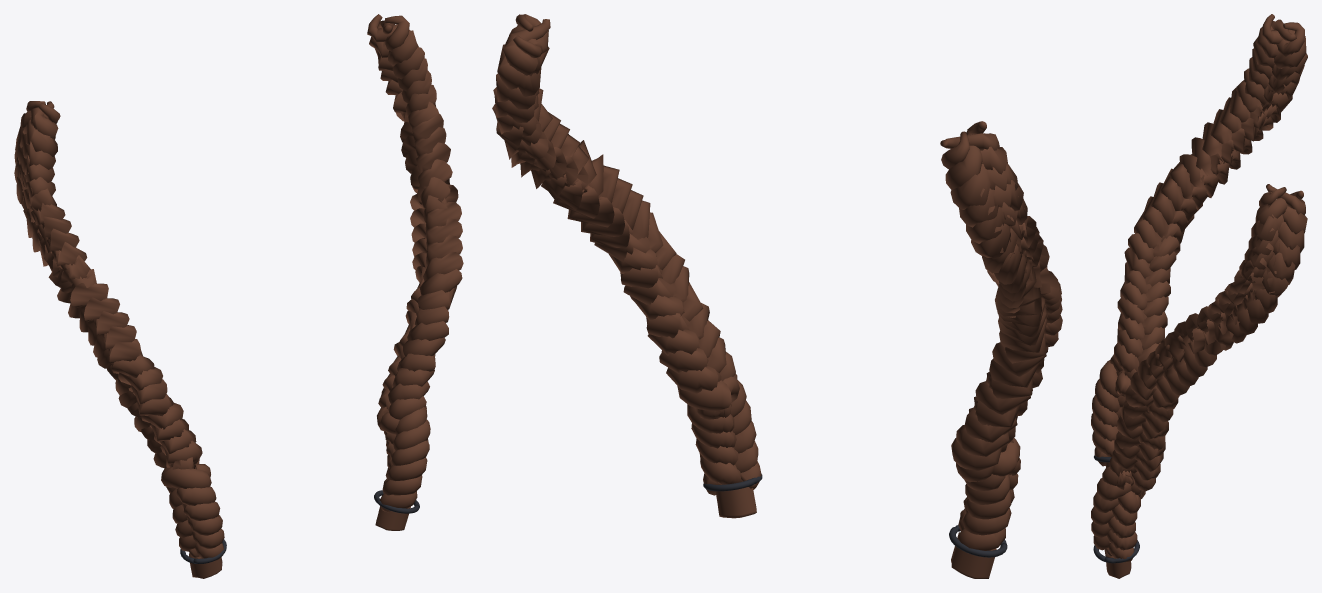
The model's file is Feminine-twin-braids-sweatshirt-pashmina-lengths251.glb.
3 views of the same model, side by side, from view 1: azimuth 30°, elevation 25°; view 2: azimuth 150°, elevation 25°; view 3: azimuth 270°, elevation 25° (orthographic). The views are drawn at different scales.
Parts seen in each view (by area): view 1: 226 hairLengths / Hair / chestnut226, 226 hairLengths / Hair / ties226; view 2: 226 hairLengths / Hair / chestnut226, 226 hairLengths / Hair / ties226; view 3: 226 hairLengths / Hair / chestnut226, 226 hairLengths / Hair / ties226.
Boxes of the visible parts, bbox=[...] form: 226 hairLengths / Hair / chestnut226: bbox=[14, 14, 463, 578]; 226 hairLengths / Hair / ties226: bbox=[180, 490, 419, 563]; 226 hairLengths / Hair / chestnut226: bbox=[492, 14, 1062, 578]; 226 hairLengths / Hair / ties226: bbox=[703, 474, 1007, 557]; 226 hairLengths / Hair / chestnut226: bbox=[1091, 14, 1307, 578]; 226 hairLengths / Hair / ties226: bbox=[1093, 455, 1139, 563].
Size of the model in its own units: 1.03 by 1.06 by 0.4842.
